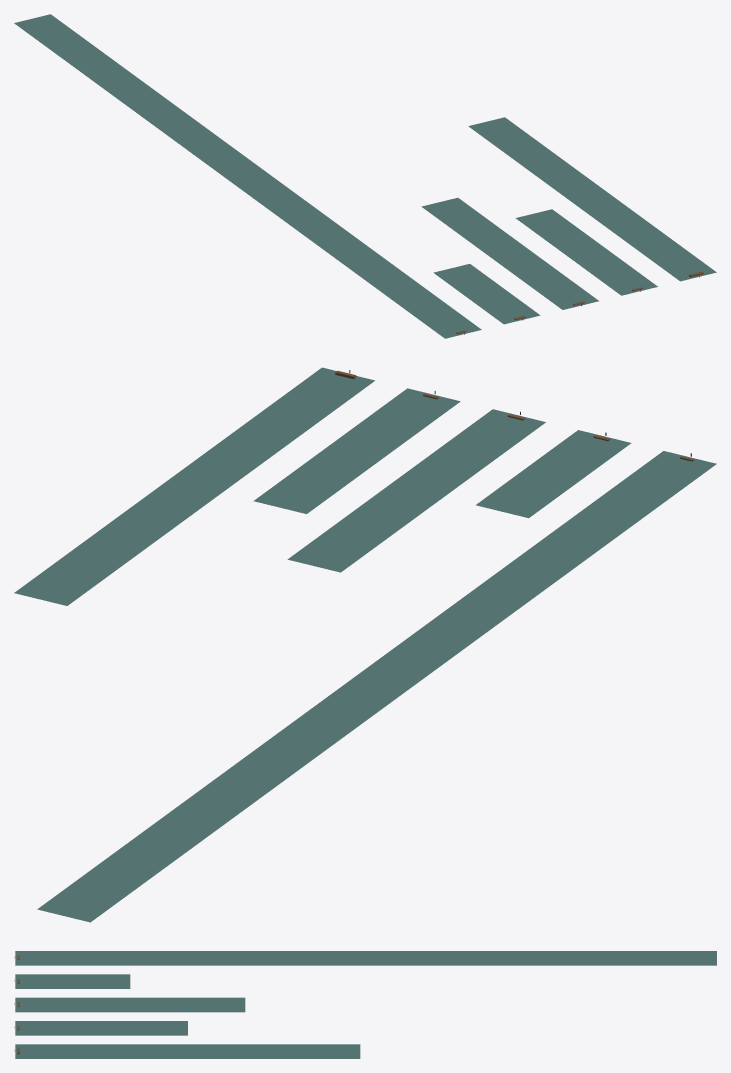
Rendered from 河船米制粗模.glb.
3 renders of one model, top to bottom at view 1: azimuth 30°, elevation 25°; view 2: azimuth 150°, elevation 25°; view 3: azimuth 270°, elevation 25°, orthographic. The views are drawn at different scales.
Visible parts, largest first — view 1: Cross section (×5); view 2: Cross section (×5); view 3: Cross section (×5).
Boxes of the visible parts, box(x1,y1,x2,y2) form: Cross section (×5): box(14, 14, 716, 338); Cross section (×5): box(14, 367, 716, 922); Cross section (×5): box(15, 951, 716, 1058).
Bounding box in the file's own units: 222 × 2.62 × 611.
